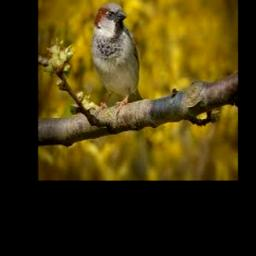Sparrow: (91, 2, 144, 109)
